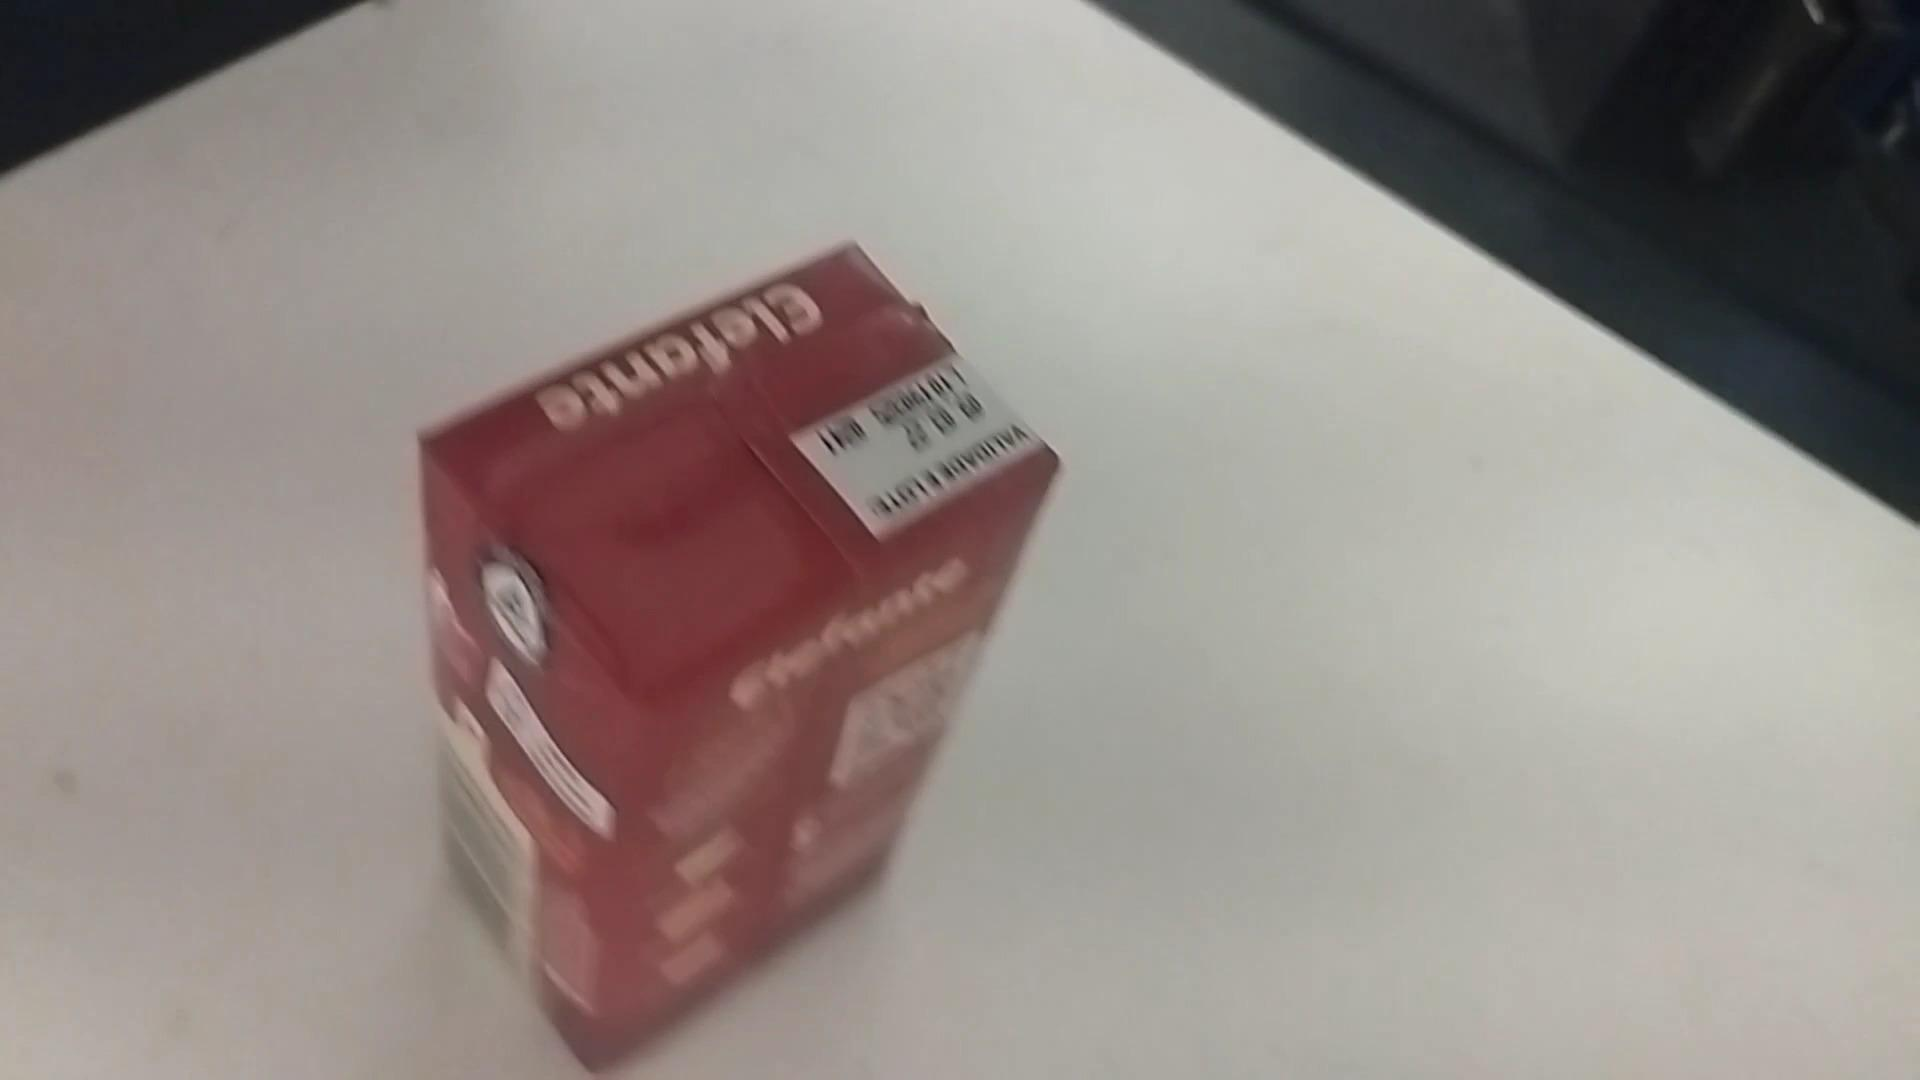tomate: (406, 235, 1076, 1064)
